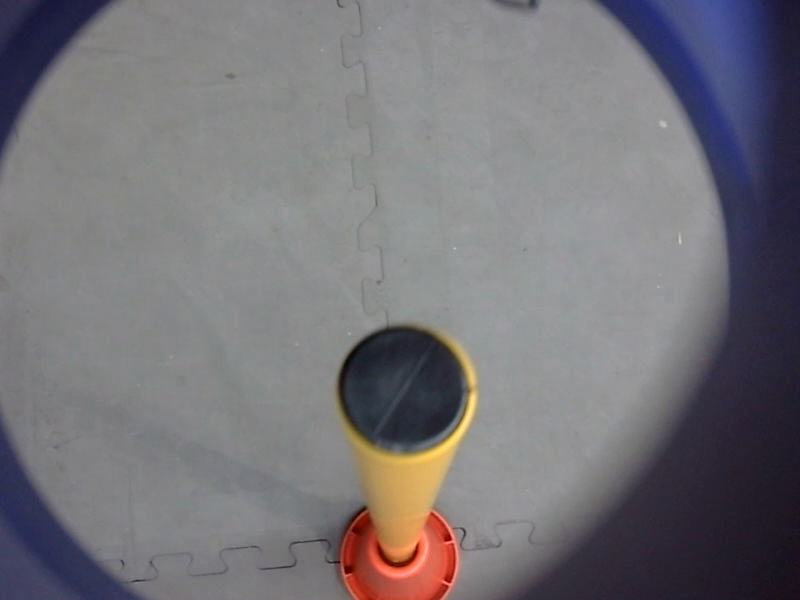tip: (327, 316, 483, 464)
